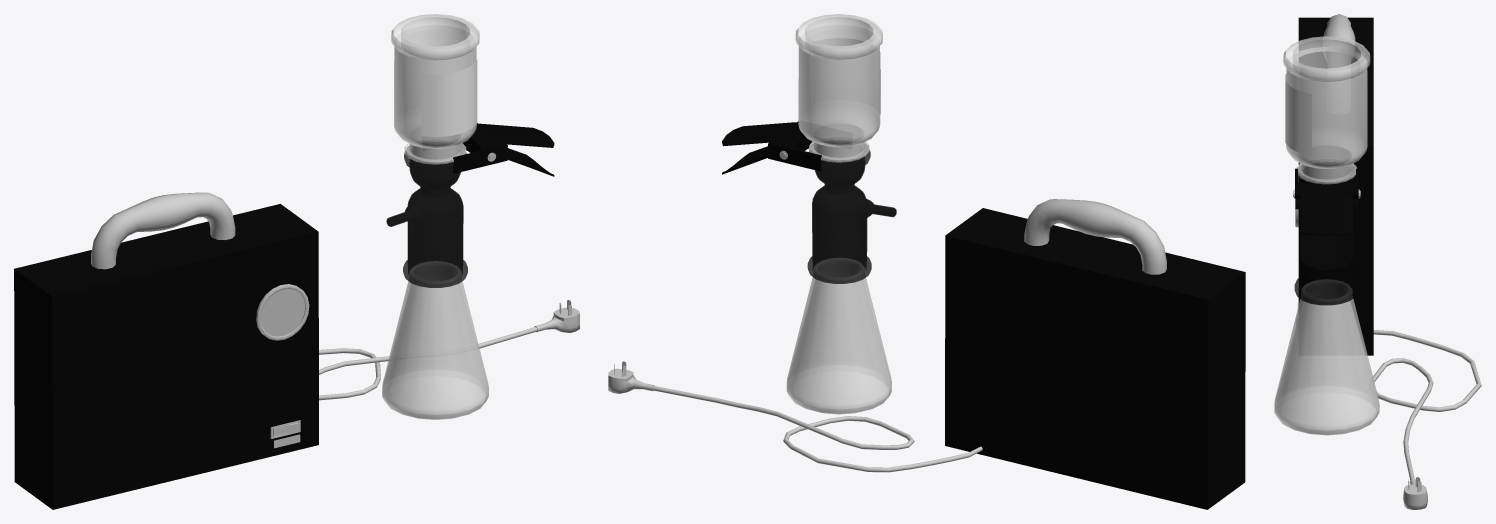
Rendered from SM_微孔滤膜过滤器.fbx.
3 renders of one model, left to right at view 1: azimuth 30°, elevation 25°; view 2: azimuth 150°, elevation 25°; view 3: azimuth 270°, elevation 25°, orthographic.
Parts seen in each view (by area): view 1: SM_微孔滤膜过滤器; view 2: SM_微孔滤膜过滤器; view 3: SM_微孔滤膜过滤器.
Boxes of the visible parts, x1,y1,x2,y2 form: SM_微孔滤膜过滤器: (14,14,579,509); SM_微孔滤膜过滤器: (608,14,1245,509); SM_微孔滤膜过滤器: (1274,14,1481,509).
Size of the model in its own units: 0.3017 by 0.1843 by 0.0942.
